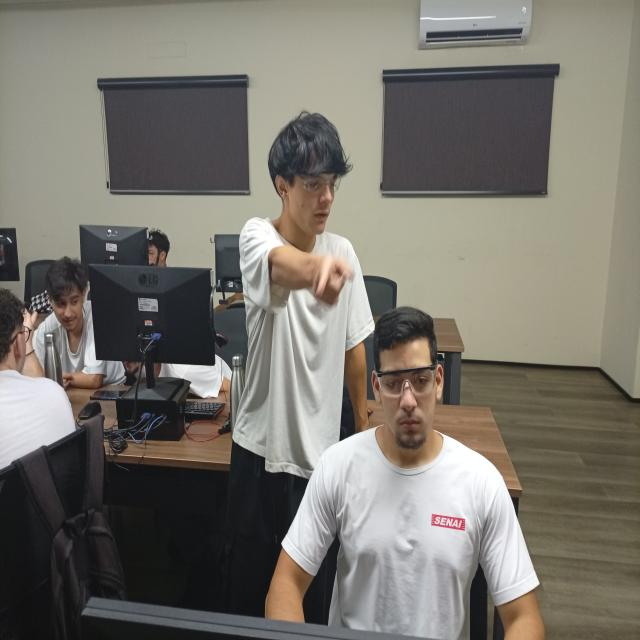oculos-epi: (374, 361, 438, 398), (289, 167, 342, 194)
sem_oculos: (8, 315, 38, 350), (46, 291, 91, 312), (148, 243, 168, 260)
